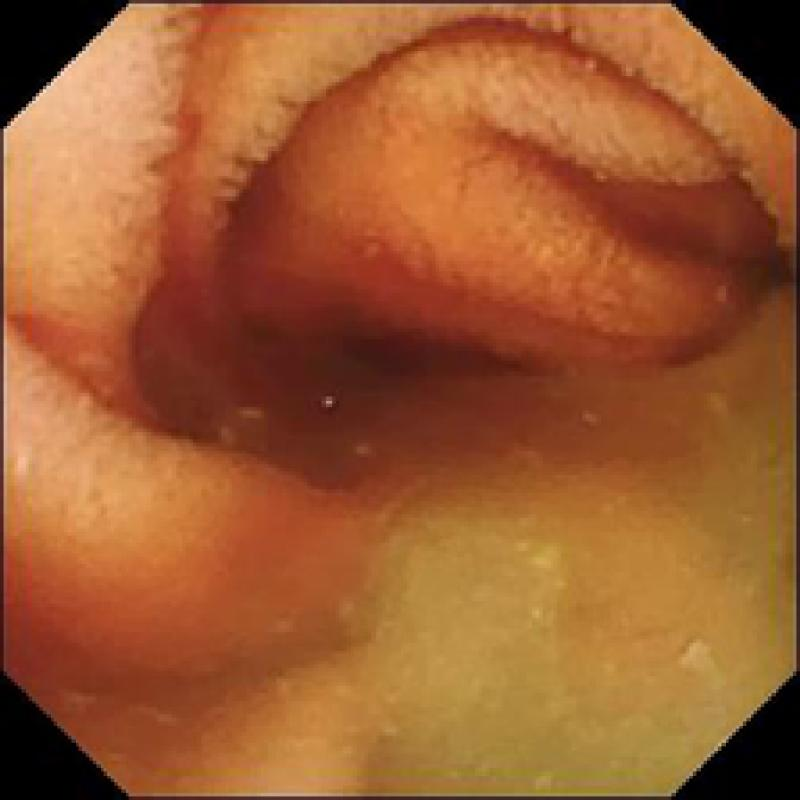bleeding: (8, 157, 778, 789), (316, 19, 684, 94), (178, 7, 204, 150)
